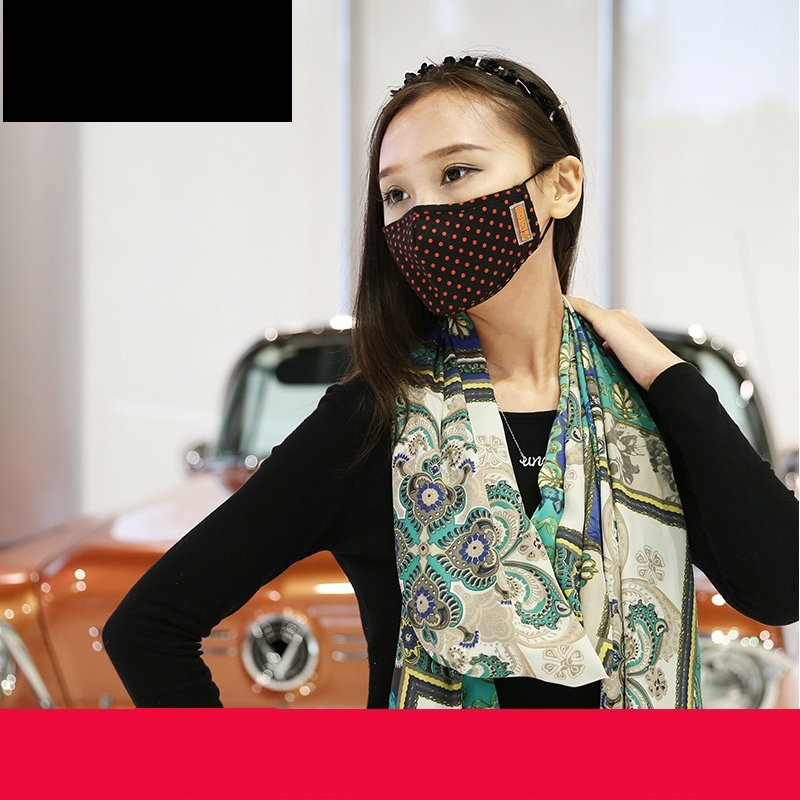face_mask: (372, 89, 538, 312)
